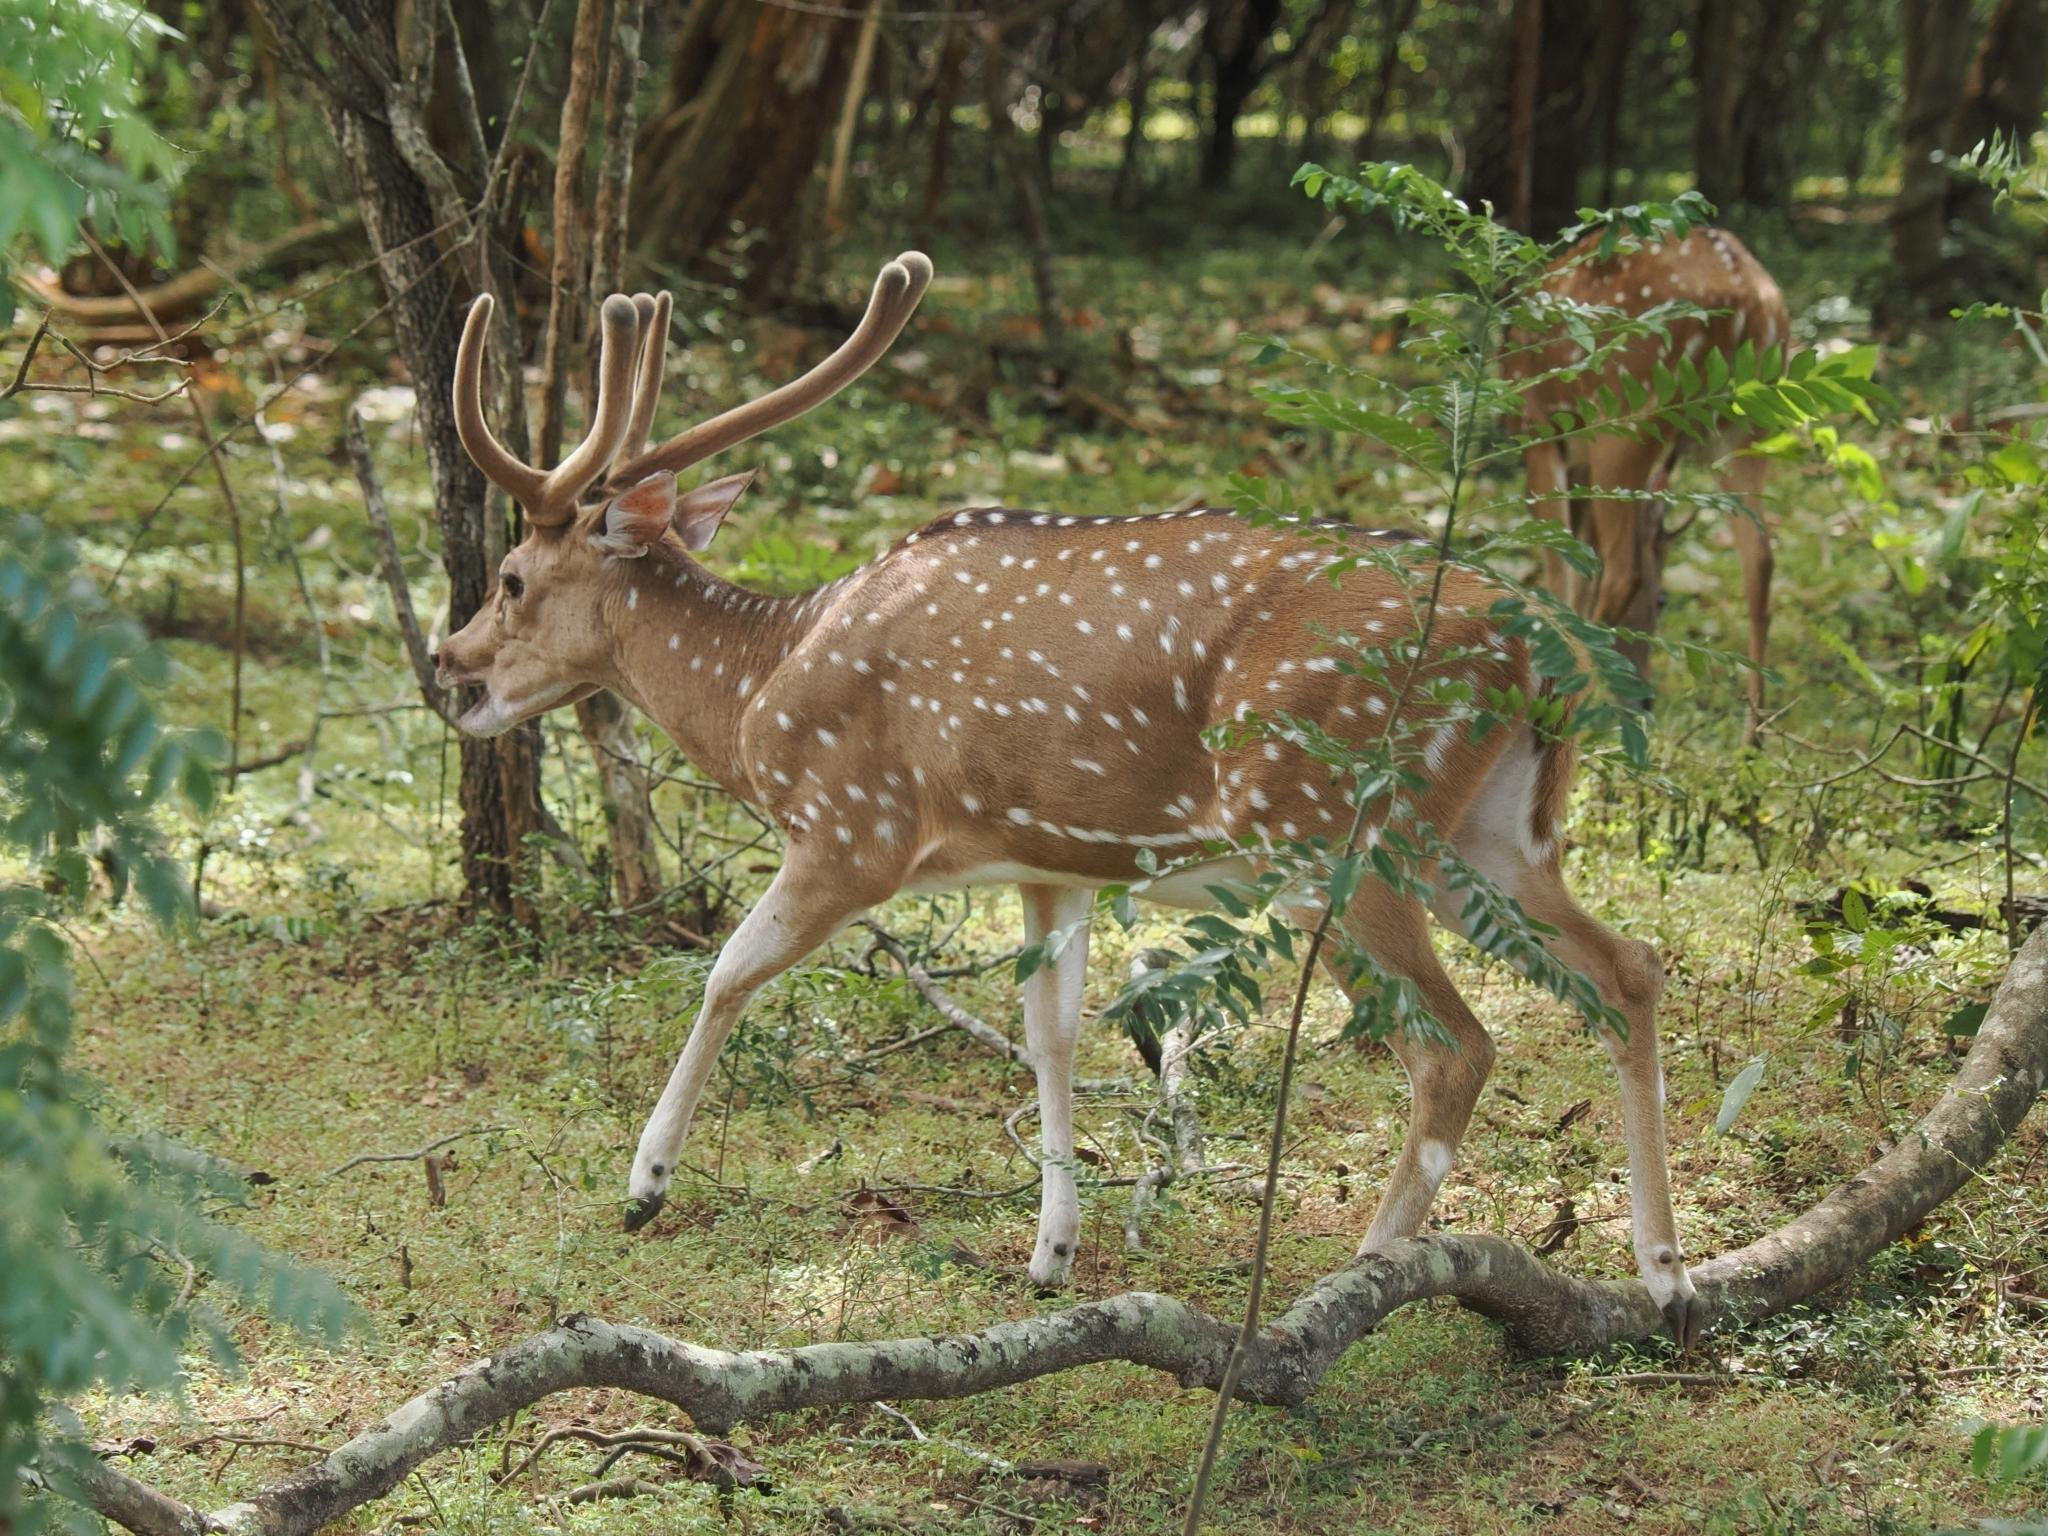Deer: (419, 252, 1700, 1341), (1337, 874, 1493, 1250)
